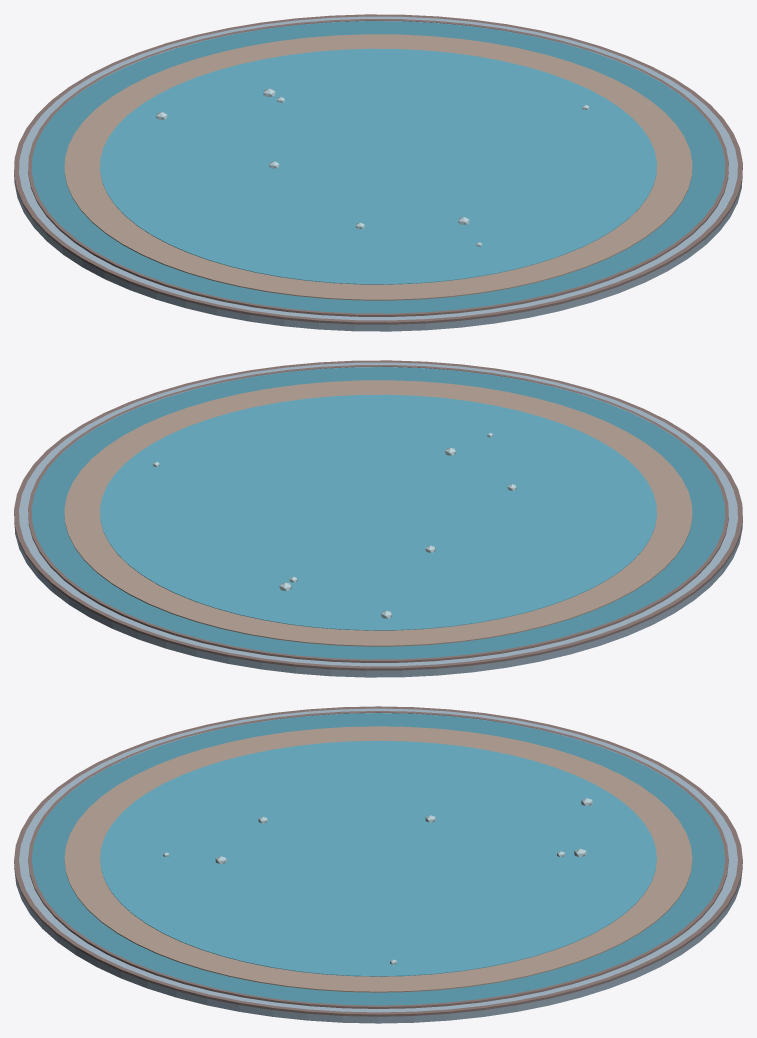
The model's file is goo_jar_foot@crystal.fbx.
3 views of the same model, one above another, from view 1: azimuth 30°, elevation 25°; view 2: azimuth 150°, elevation 25°; view 3: azimuth 270°, elevation 25° (orthographic).
Parts seen in each view (by area): view 1: goo_jar_foot; view 2: goo_jar_foot; view 3: goo_jar_foot.
Boxes of the visible parts, <box> form: goo_jar_foot: <box>14,14,742,331</box>; goo_jar_foot: <box>14,360,742,677</box>; goo_jar_foot: <box>14,706,742,1023</box>.
Bounding box in the file's own units: 80.1 × 2.08 × 80.1.
